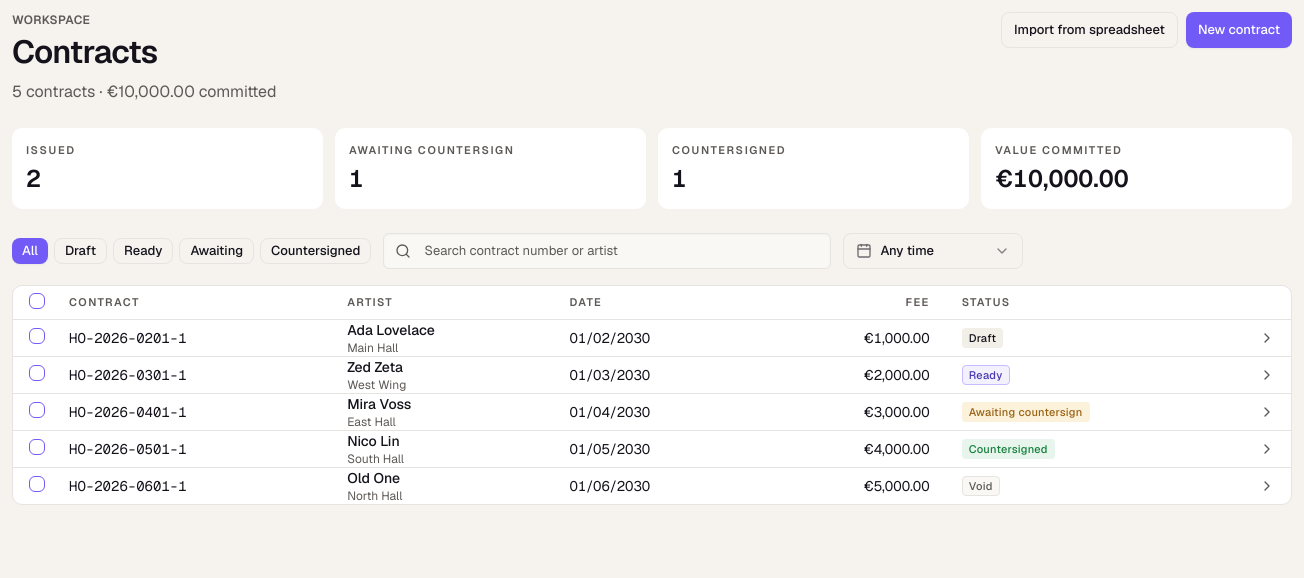
Test: HireOrdersPage › prunes a selected row from the bulk-issue bar once it is filtered out of view, so a hidden selection can never be issued unrevalidated
This screenshot has width=1304, height=578.
Expected: the text "HO-2026-0201-1" is shown, [69,329,187,347]
Click the checkbox named "select contract ho-2026-0201-1" at [37, 336], box [29,328,45,344]
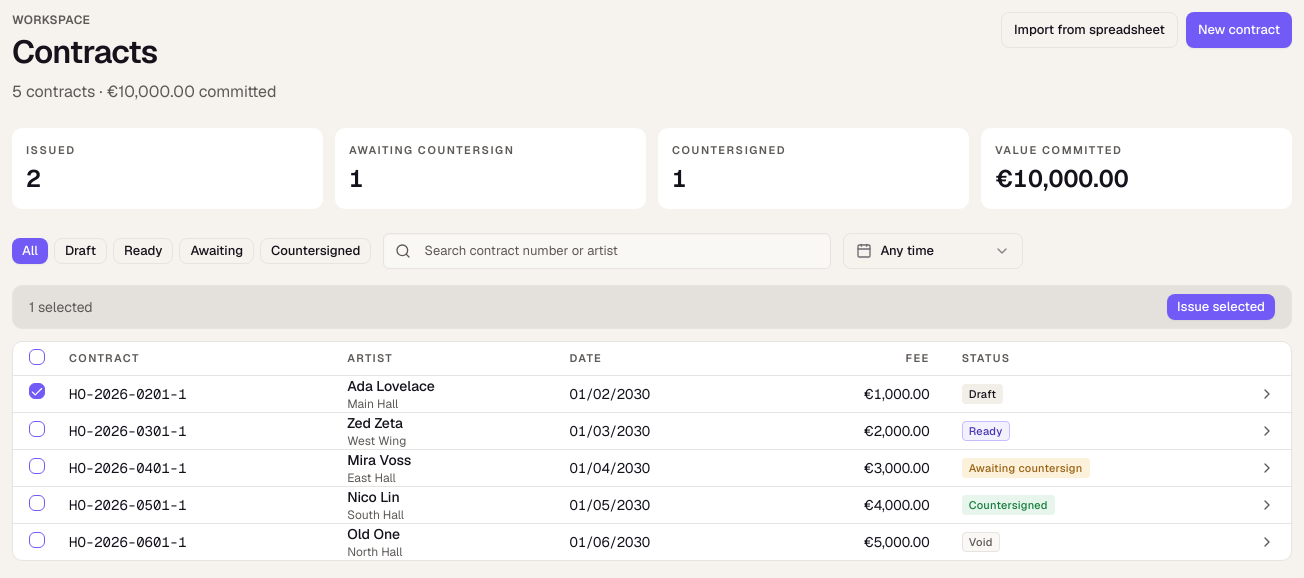
Now the button "Issue selected" is enabled, box [1167,294,1275,320]
Type "zed" into the field with placeholder "Search contract number or artist" at [607, 250], box [383,232,831,268]
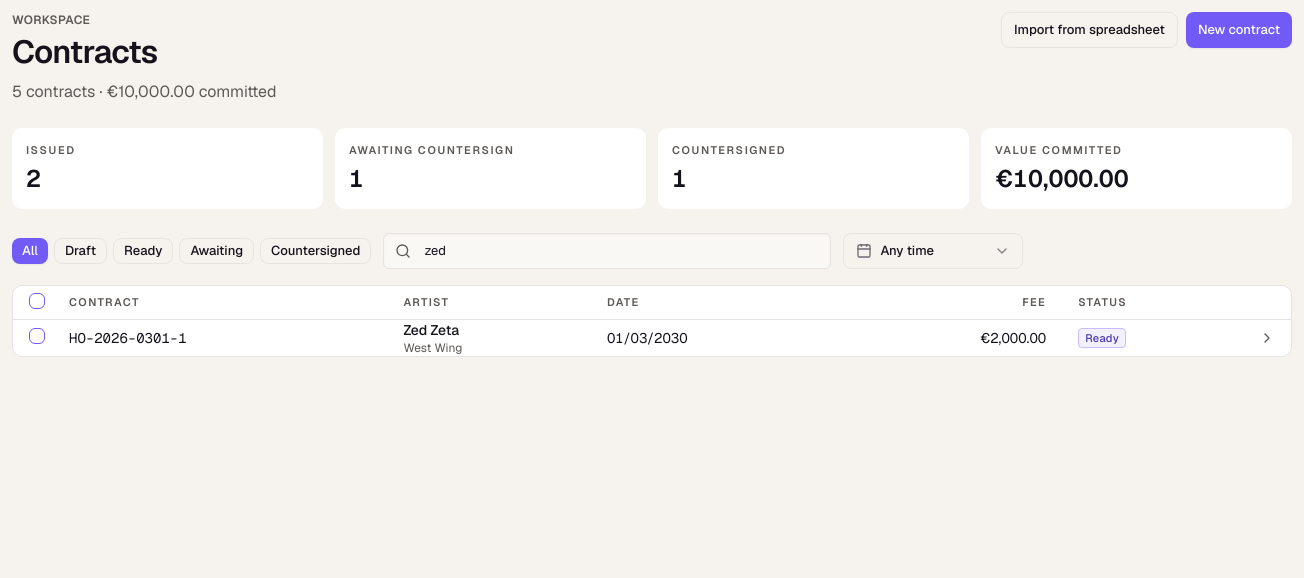
Now the button "HO-2026-0201-1" is gone
Now the button "Issue selected" is gone
